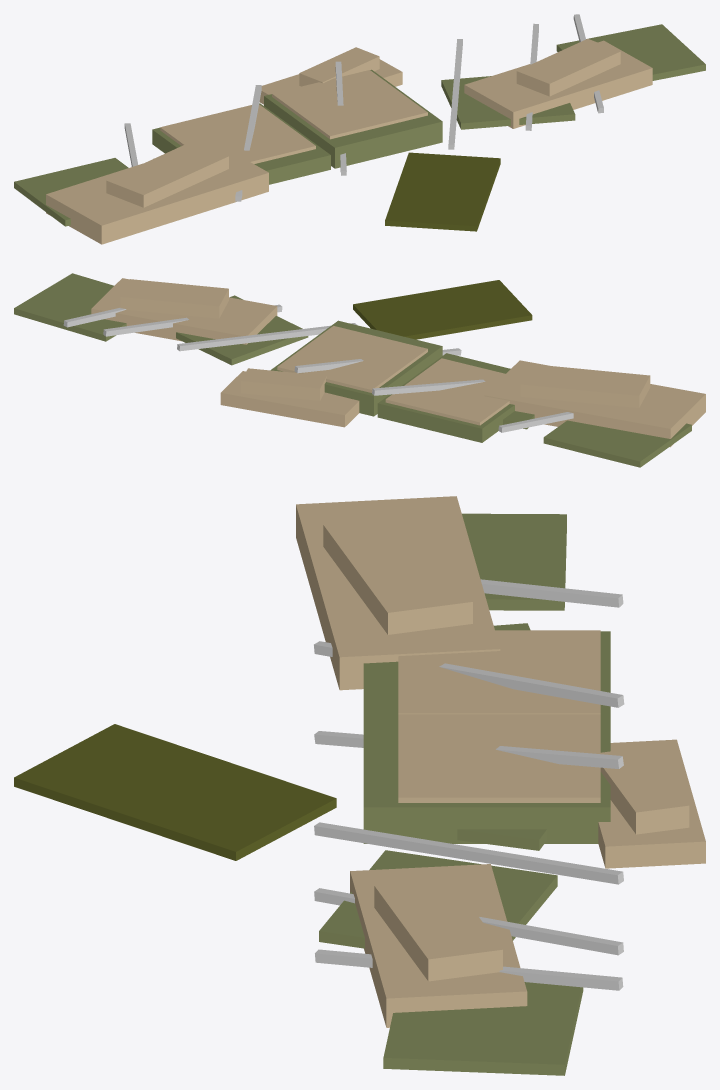
File: SM_HescoCorto3_v4_Red_e3_Brecha_LOD0.fbx
3 renders of one model, top to bottom at view 1: azimuth 30°, elevation 25°; view 2: azimuth 150°, elevation 25°; view 3: azimuth 270°, elevation 25°, orthographic. The views are drawn at different scales.
Parts seen in each view (by area): view 1: SM_hesco_piezas_v99_LOD0; view 2: SM_hesco_piezas_v99_LOD0; view 3: SM_hesco_piezas_v99_LOD0.
Boxes of the visible parts, box(x1,y1,x2,y2) form: SM_hesco_piezas_v99_LOD0: box(14, 14, 705, 244); SM_hesco_piezas_v99_LOD0: box(14, 273, 705, 467); SM_hesco_piezas_v99_LOD0: box(14, 496, 705, 1075).
Size of the model in its own units: 6.44 by 0.3263 by 3.42.
